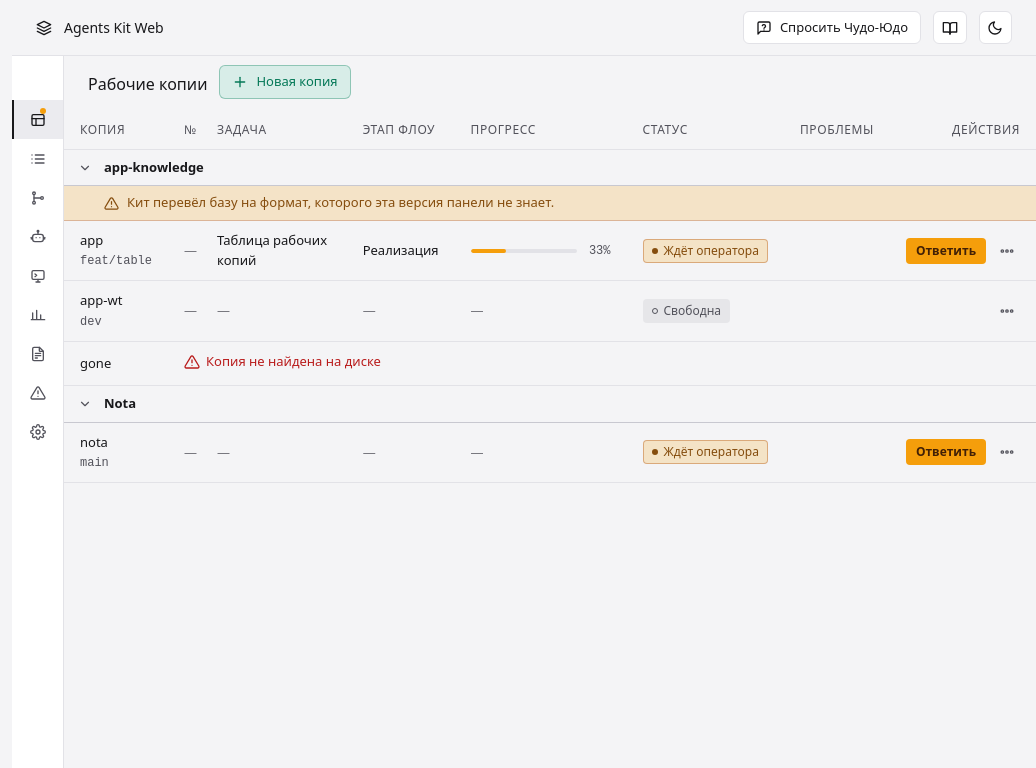
база нового формата — строки копий как обычно, под шапкой группы строка предупреждения, и у свёрнутой тоже
expect the text "Кит перевёл базу на формат, которого эта версия панели не знает." is shown once: met, box [64, 186, 1035, 220]
expect the button "Ответить" in the row of "feat/table" is enabled: met, box [906, 238, 986, 264]
Click the button named "Свернуть app-knowledge". click: (85, 168)
box: [76, 158, 94, 176]
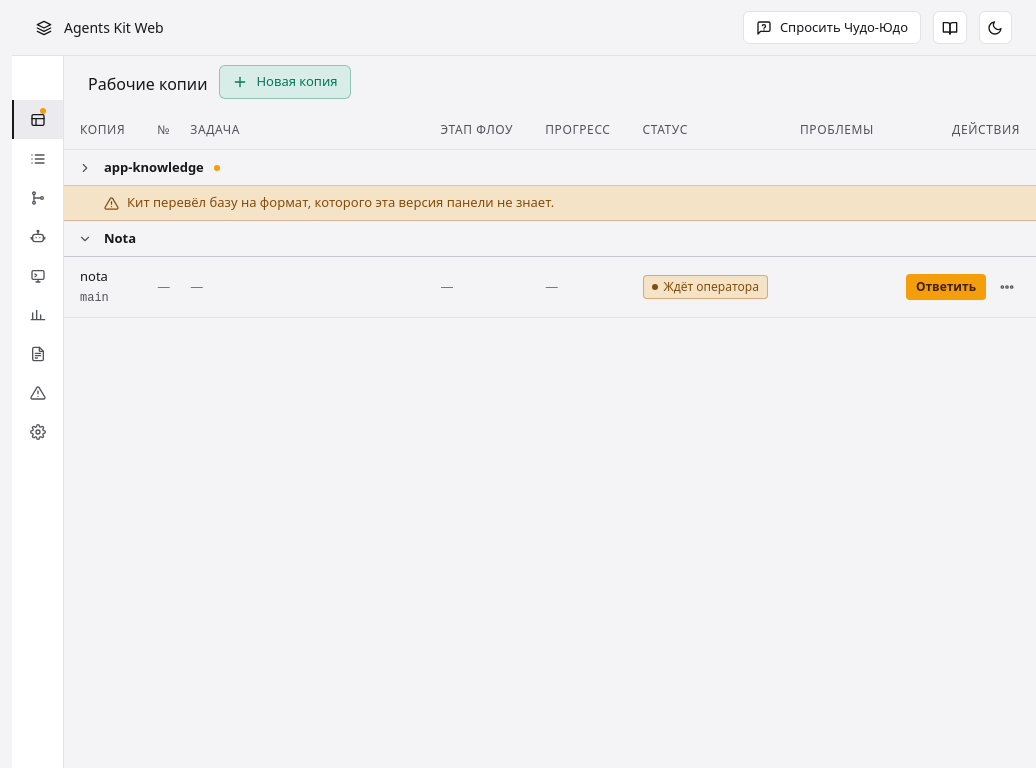
expect the text "Кит перевёл базу на формат, которого эта версия панели не знает." is shown: met, box [64, 186, 1035, 220]
expect the text "Таблица рабочих копий" is gone: met
